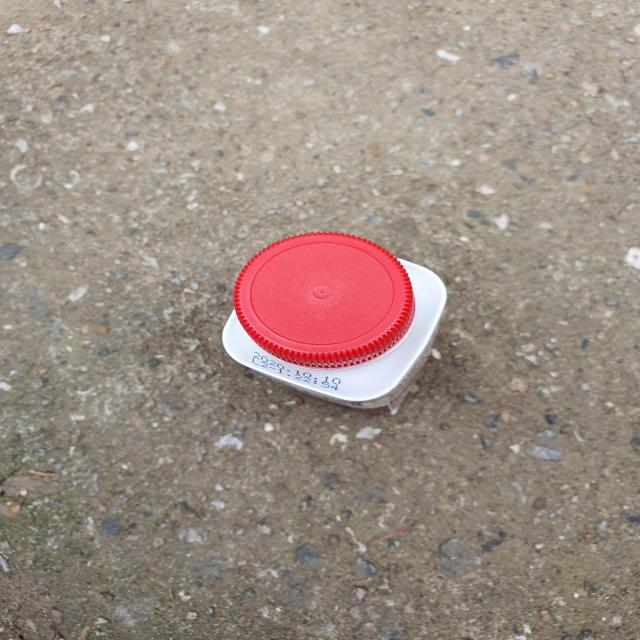paperpack: (222, 232, 447, 414)
